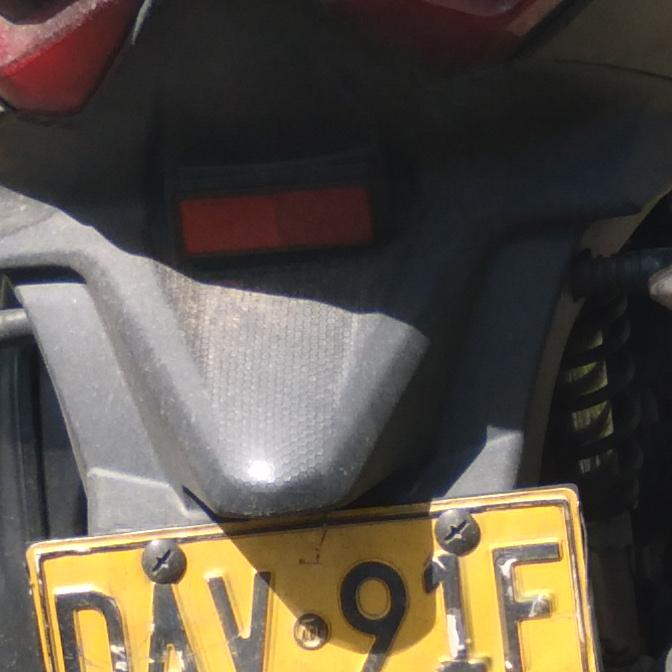plates: (24, 483, 598, 672)
